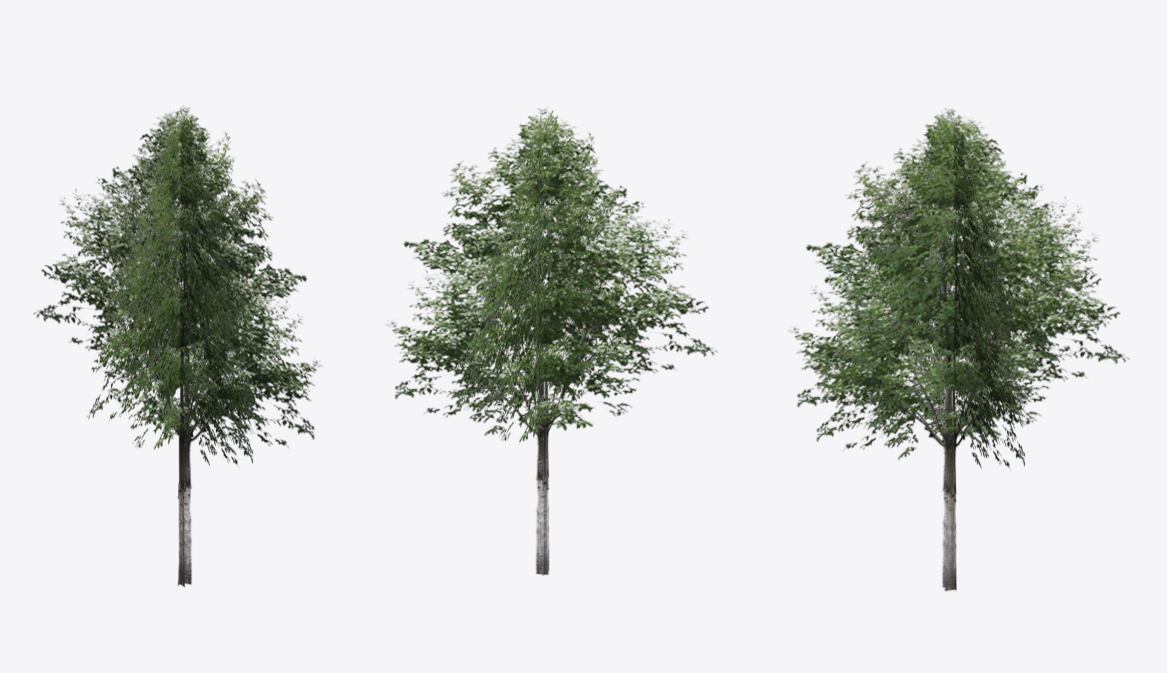
The model's file is Tree 3.glb.
3 renders of one model, left to right at view 1: azimuth 30°, elevation 25°; view 2: azimuth 150°, elevation 25°; view 3: azimuth 270°, elevation 25°, orthographic. The views are drawn at different scales.
Visible parts, largest first — view 1: Plane.502; view 2: Plane.502; view 3: Plane.502.
Boxes of the visible parts, <box> form: Plane.502: <box>33,105,322,587</box>; Plane.502: <box>386,106,717,575</box>; Plane.502: <box>788,108,1129,591</box>.
Bounding box in the file's own units: 1.09 × 1.78 × 1.24.
1 material, 1 textured.
